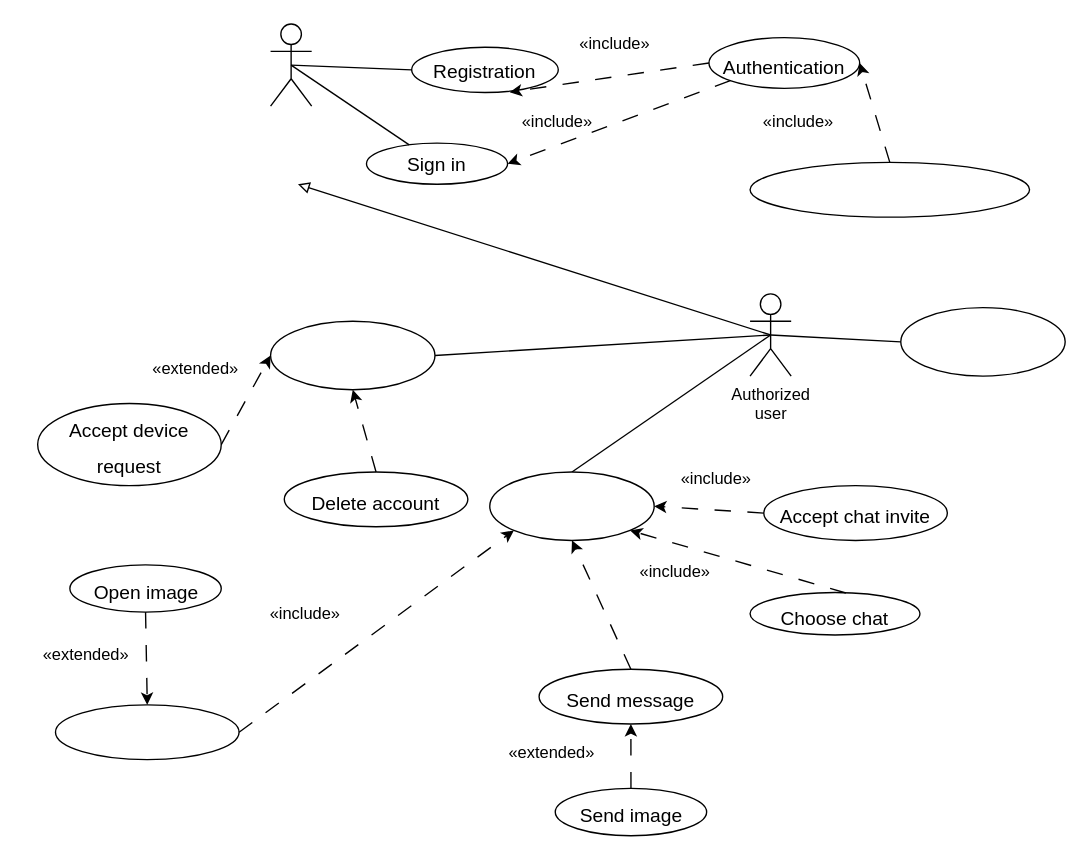
Some shapes in this 1089 by 860 pixel diagram are drawn without their labels. Here are the shapes that lost their labels. From the top down, the centre of each, then its label:
the point at 290,64: Unauthorized user
the point at 889,189: Authorization
the point at 352,355: Accout manage
the point at 982,341: Create chat
the point at 571,505: Chat manage
the point at 146,731: Show message
